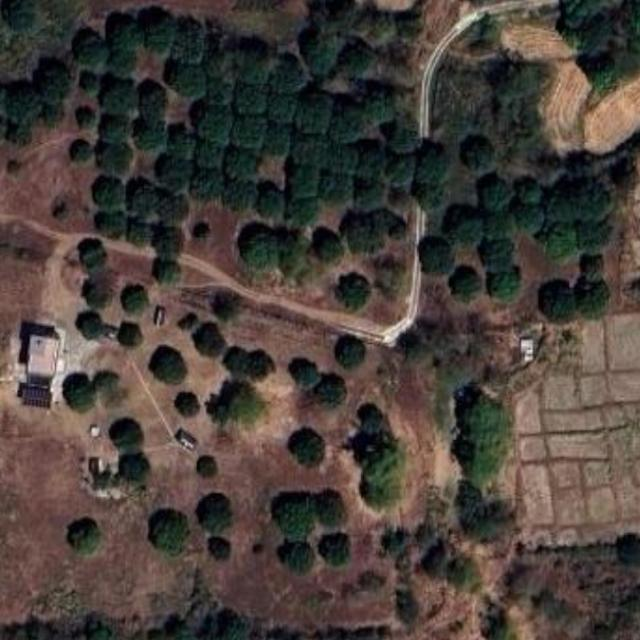Tree: (460, 389, 510, 492), (452, 484, 518, 550), (544, 176, 616, 230), (286, 130, 357, 178), (342, 208, 407, 257), (357, 447, 407, 510), (494, 58, 549, 110), (330, 99, 392, 141), (221, 376, 270, 426), (268, 492, 315, 543), (0, 80, 43, 134), (236, 223, 282, 273), (227, 343, 276, 387), (104, 411, 146, 461), (35, 59, 78, 105), (164, 16, 203, 64), (120, 178, 160, 222), (154, 153, 196, 194), (416, 232, 454, 277), (201, 67, 239, 112), (192, 318, 229, 364), (152, 506, 187, 554), (289, 89, 329, 131), (150, 343, 189, 386), (268, 53, 312, 91), (542, 226, 580, 270), (311, 486, 347, 532), (411, 144, 447, 190), (572, 276, 612, 317), (458, 132, 498, 173), (96, 140, 134, 182), (98, 74, 136, 116), (214, 172, 257, 209), (317, 168, 356, 208), (478, 236, 519, 274), (74, 24, 111, 66), (67, 517, 103, 560), (304, 30, 336, 78), (220, 147, 259, 186), (194, 492, 234, 530), (58, 374, 95, 415), (168, 59, 205, 100), (194, 105, 230, 147), (489, 266, 527, 305), (232, 83, 270, 122), (186, 138, 226, 175), (339, 41, 376, 81), (447, 260, 482, 302), (255, 183, 288, 227), (75, 306, 113, 344), (280, 536, 316, 576), (542, 284, 578, 324), (282, 198, 322, 234), (92, 204, 130, 241), (259, 117, 295, 156), (334, 331, 369, 371), (138, 9, 172, 50), (228, 114, 264, 152), (336, 271, 369, 312), (97, 106, 134, 142), (137, 80, 172, 118), (295, 428, 329, 467), (150, 224, 185, 261), (513, 200, 548, 236), (382, 150, 417, 186), (313, 226, 347, 262), (156, 191, 190, 227), (448, 557, 481, 594), (315, 368, 348, 405), (87, 176, 125, 208), (479, 174, 509, 214), (118, 446, 152, 481), (153, 256, 187, 291), (353, 172, 388, 206), (288, 356, 319, 394), (316, 534, 352, 566), (106, 14, 138, 50), (190, 167, 223, 201), (88, 361, 124, 392), (286, 162, 316, 199), (423, 541, 457, 573), (214, 288, 244, 324), (104, 48, 140, 78), (161, 123, 191, 159), (74, 235, 108, 266), (385, 121, 416, 155), (354, 402, 384, 437), (121, 284, 153, 316), (356, 142, 386, 176), (454, 212, 484, 245), (380, 528, 416, 555), (173, 388, 203, 420), (264, 86, 294, 118), (419, 180, 449, 212), (125, 220, 155, 251), (134, 115, 163, 147), (398, 588, 421, 627), (68, 100, 95, 132), (116, 320, 143, 350), (617, 527, 640, 561), (208, 533, 234, 563), (512, 178, 538, 208), (192, 452, 220, 479), (578, 254, 604, 282), (79, 66, 103, 94), (186, 222, 211, 242), (68, 141, 90, 162)
